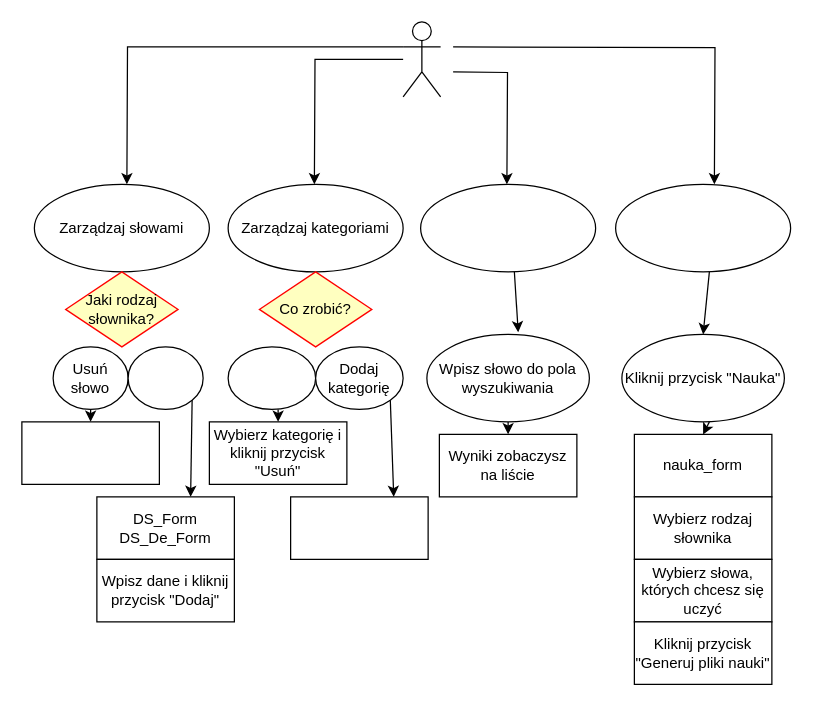
Some shapes in this 813 by 706 pixel diagram are drawn without their labels. Here are the shapes that lost their labels. From the top down, the centre of each, then its label:
point 421,59: Actor
point 507,227: Wyszukaj słowo
point 702,227: Generuj zestaw do nauki
point 165,377: Dodaj słowo
point 271,377: Usuń kategorię
point 90,452: Zaznacz słowo i kliknij przycisk "Usuń"
point 358,527: Wpisz kategorię i kliknij przycisk "Dodaj"
